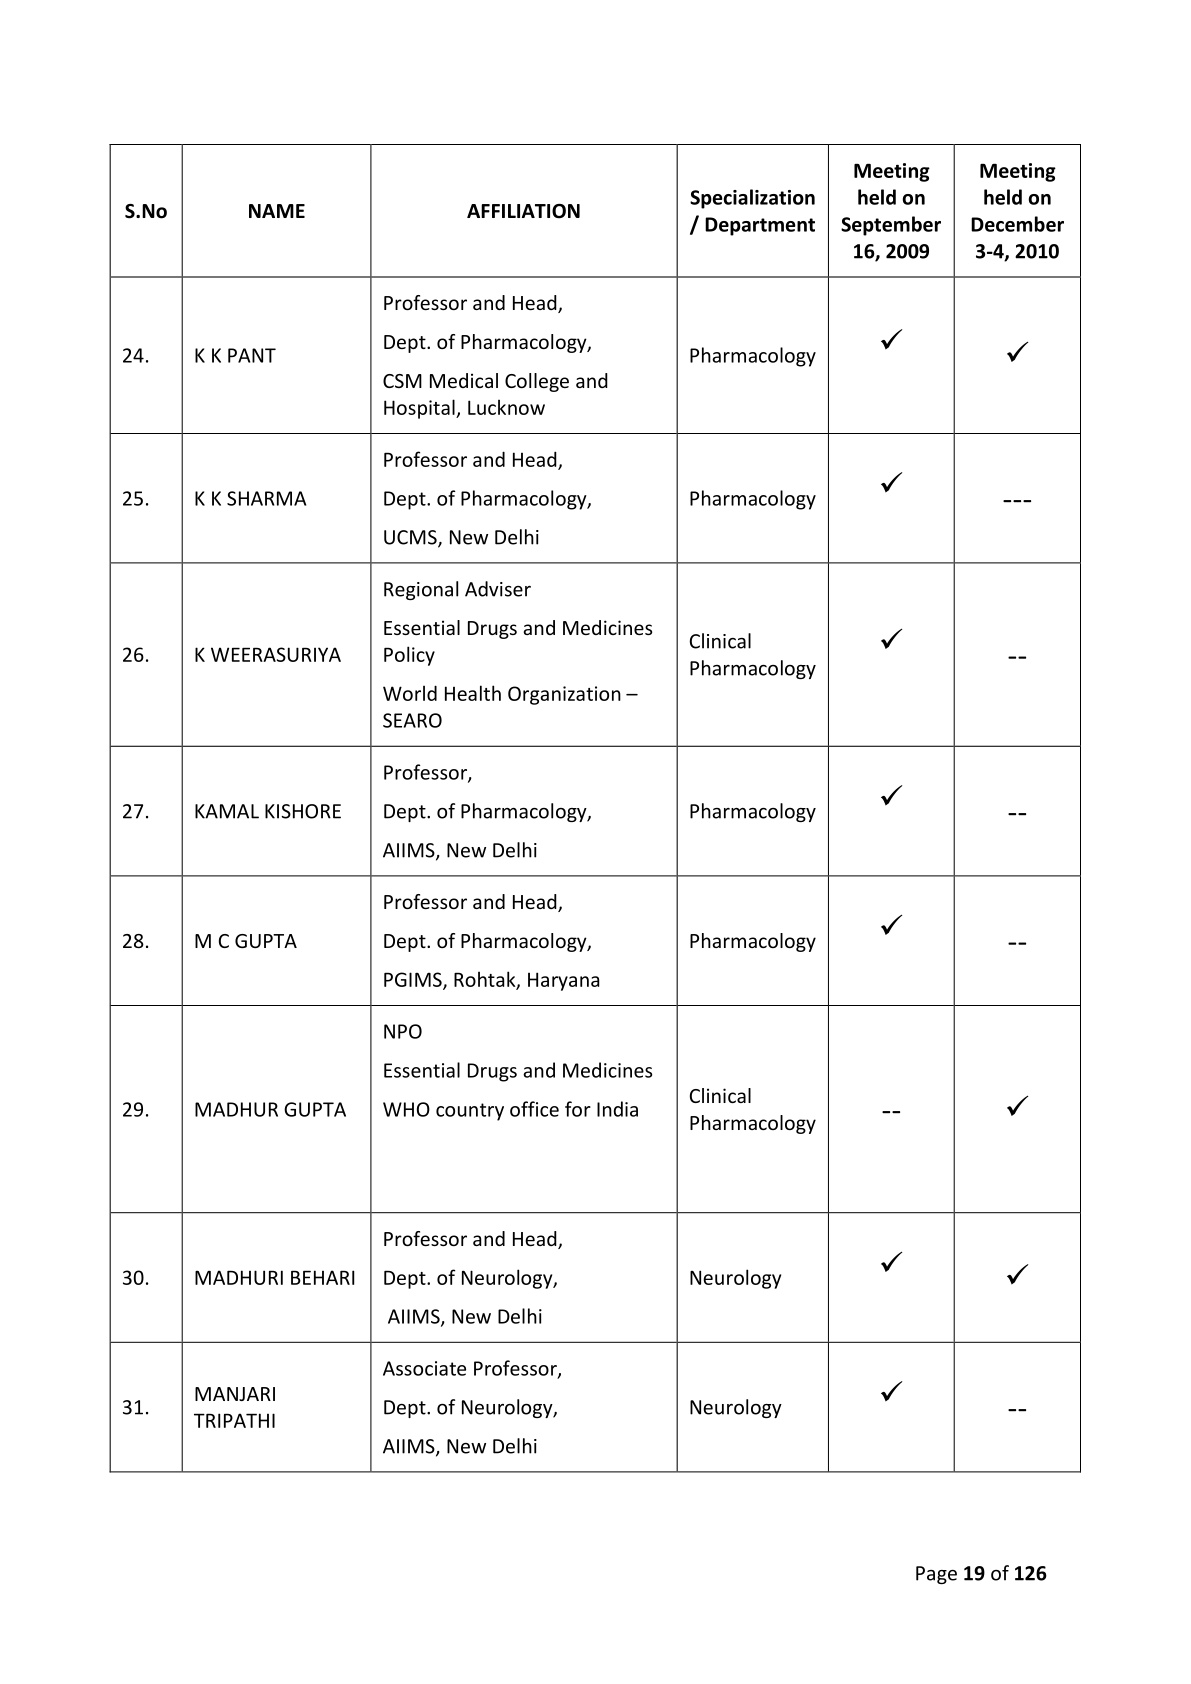full_lined: (108, 142, 1081, 1474)
